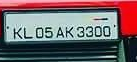0: (35, 27, 45, 38), (94, 25, 103, 37), (103, 25, 111, 37)
3: (76, 26, 85, 38), (85, 25, 94, 37)
5: (43, 26, 54, 38)
A: (56, 26, 65, 38)
K: (12, 26, 24, 40), (65, 25, 74, 37)
L: (23, 27, 34, 39)
